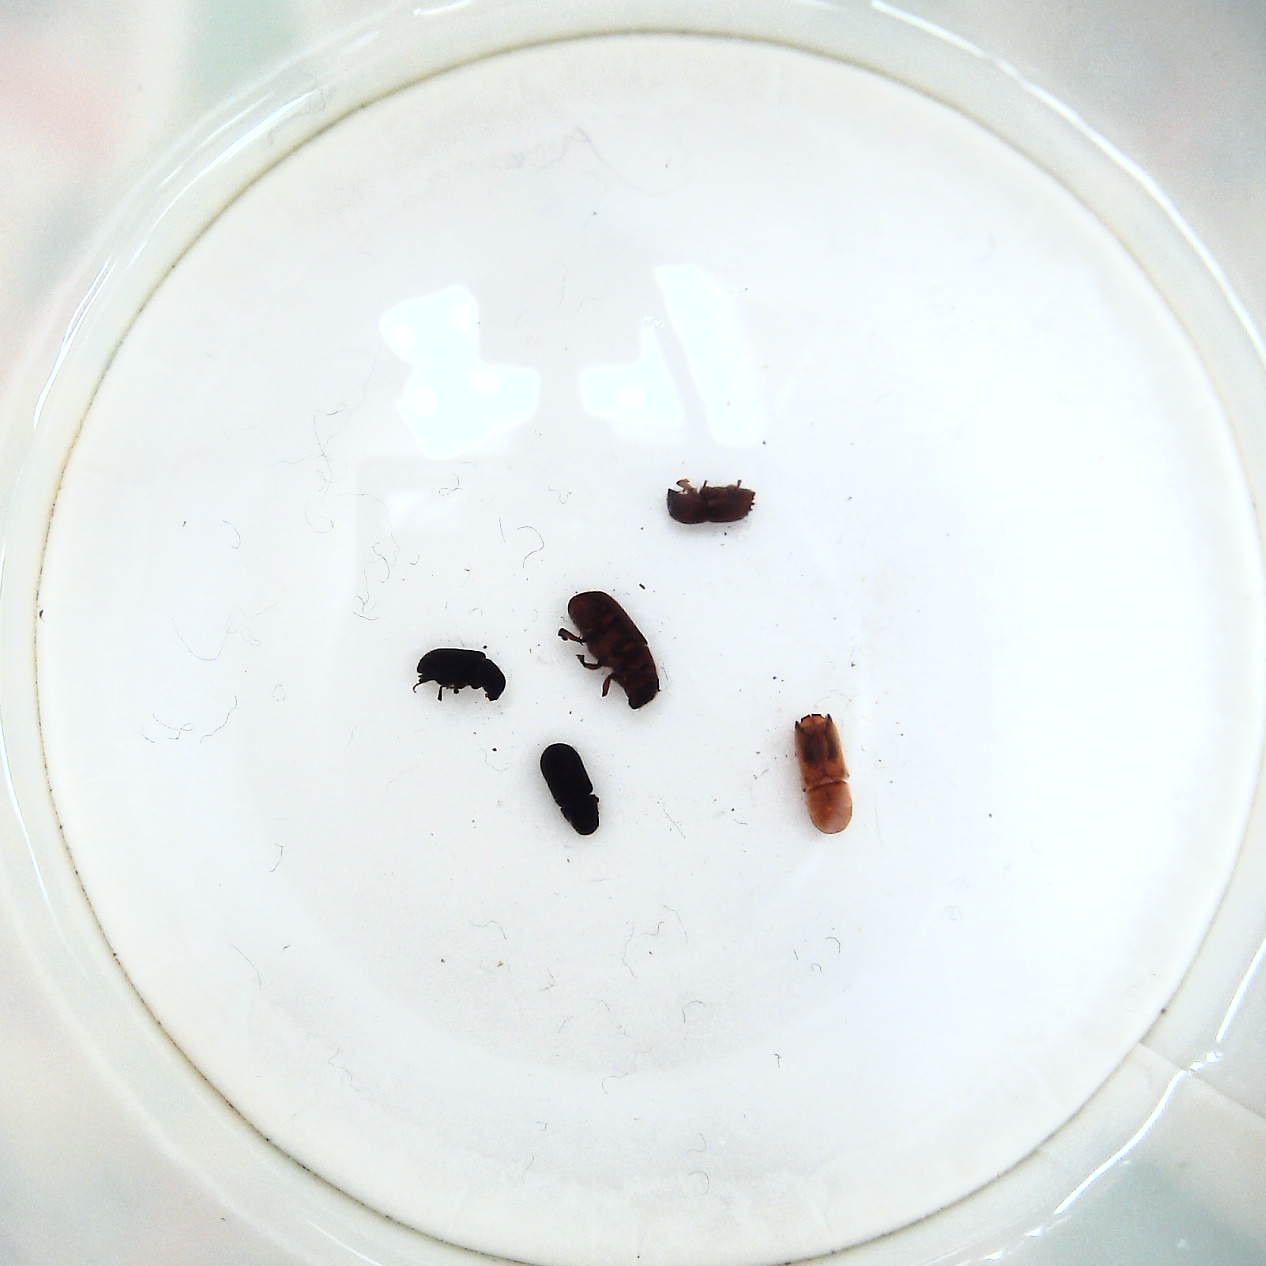Boerner: (787, 704, 860, 838)
Leconte: (555, 590, 663, 714)
armandi: (536, 741, 609, 838)
coleoptera: (407, 643, 509, 704)
linnaeus: (660, 470, 758, 531)
